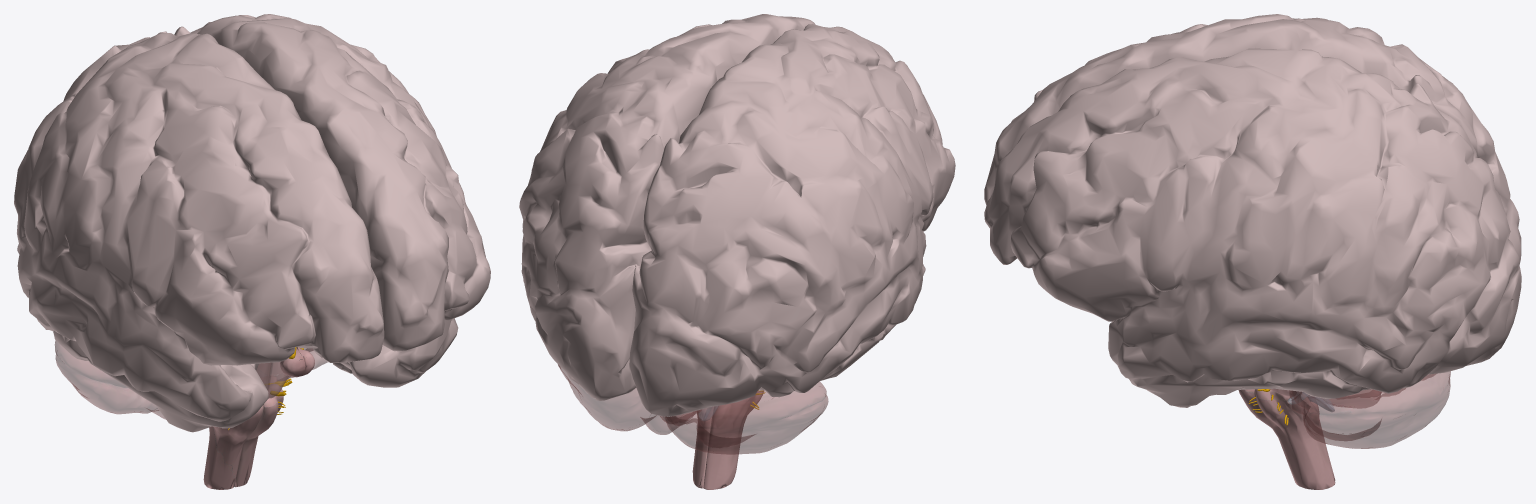
Rendered from pituitary.glb.
The picture shows the model from 3 angles, left to right: view 1: azimuth 30°, elevation 25°; view 2: azimuth 150°, elevation 25°; view 3: azimuth 270°, elevation 25°; orthographic projection. The views are drawn at different scales.
Visible parts, largest first — view 1: udambu; view 2: udambu; view 3: udambu.
Boxes of the visible parts, x1,y1,x2,y2 form: udambu: (14, 14, 490, 489); udambu: (519, 14, 955, 489); udambu: (984, 14, 1521, 489).
Bounding box in the file's own units: 0.4703 × 0.5481 × 0.6.
Materials: 47 (38 with a texture image).
